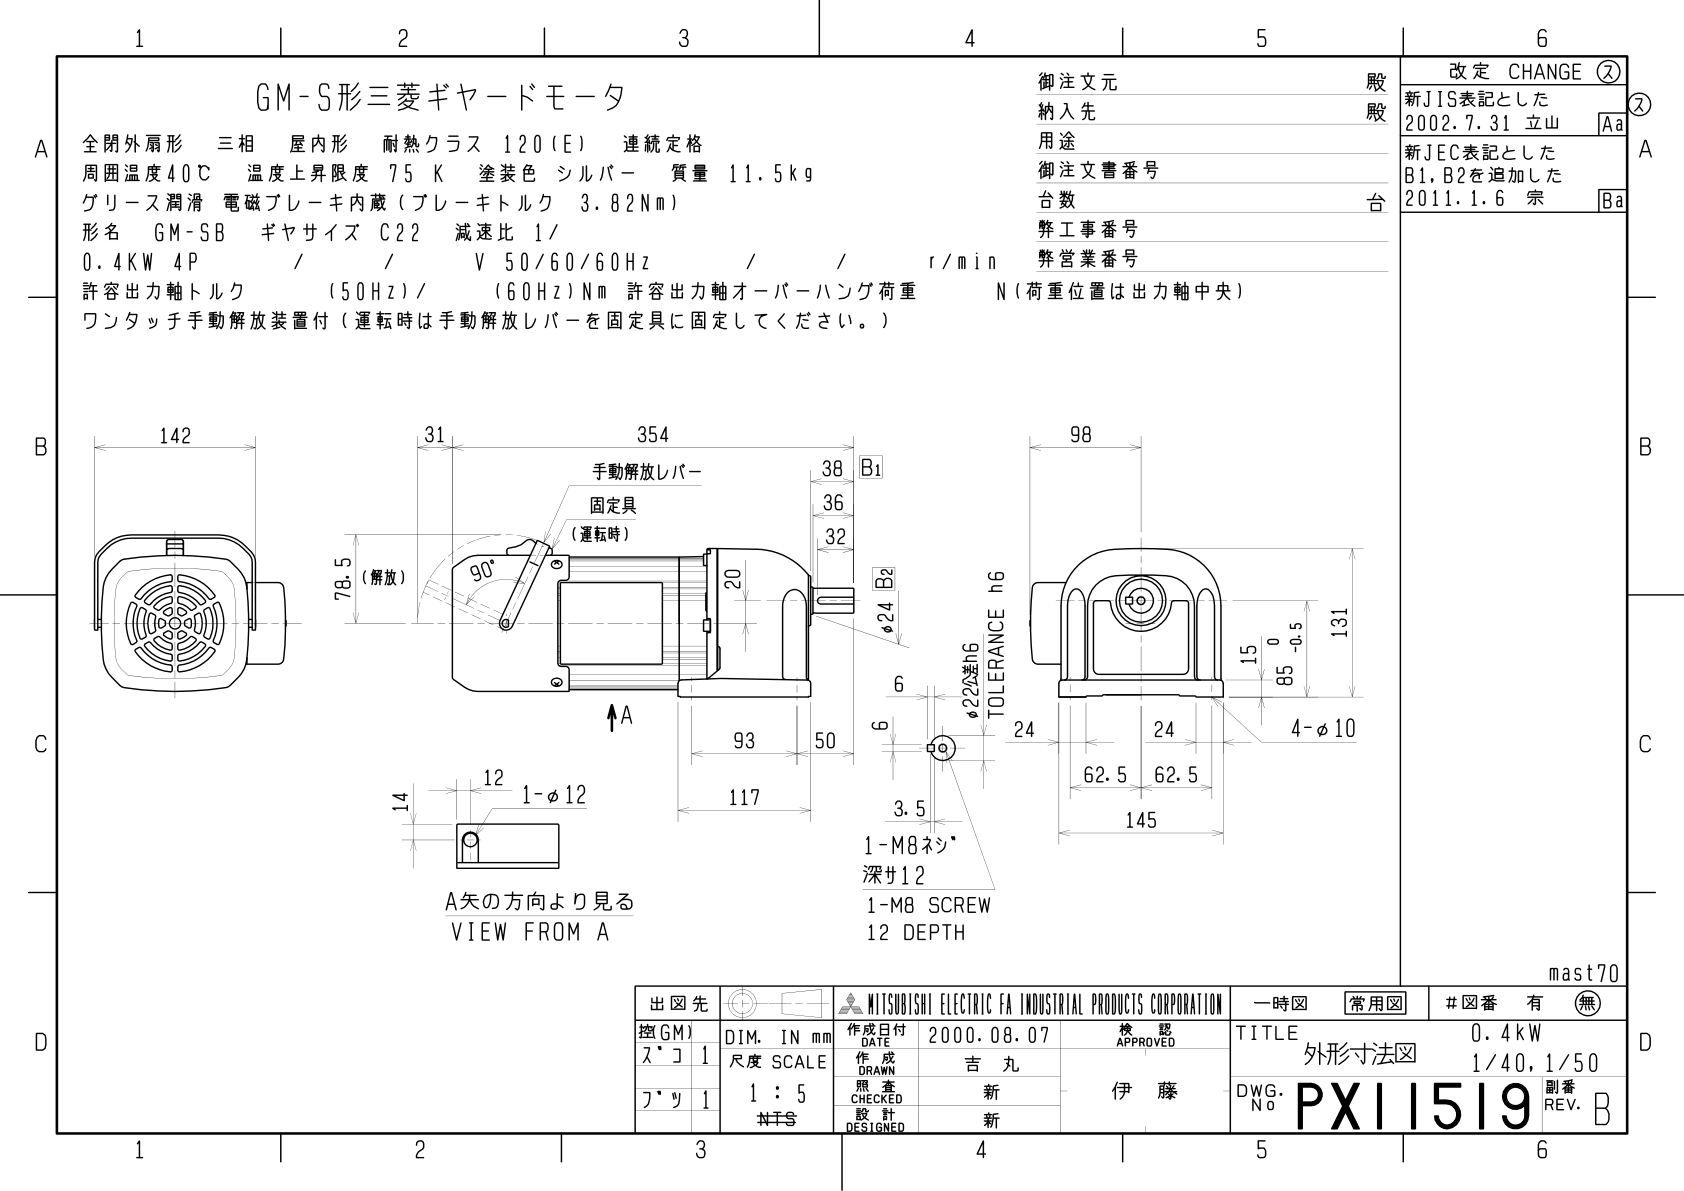GM_S_手動ブレーキ＿三相_脚: (73, 382, 1381, 967)
